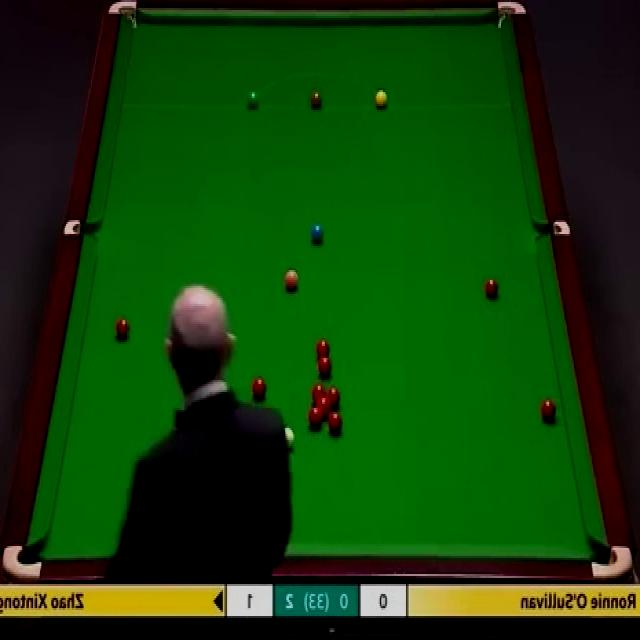blue-ball: (310, 222, 324, 247)
brown-ball: (310, 90, 323, 109)
green-ball: (246, 90, 259, 109)
pink-ball: (284, 268, 299, 291)
red-ball: (484, 275, 499, 303), (540, 398, 556, 423), (328, 413, 344, 435), (253, 377, 267, 402), (315, 397, 329, 421), (116, 316, 130, 340), (308, 408, 322, 431), (326, 388, 340, 409), (317, 358, 331, 378), (316, 338, 330, 357), (312, 384, 325, 403)
white-ball: (285, 427, 296, 448)
yellow-ball: (375, 90, 388, 109)
